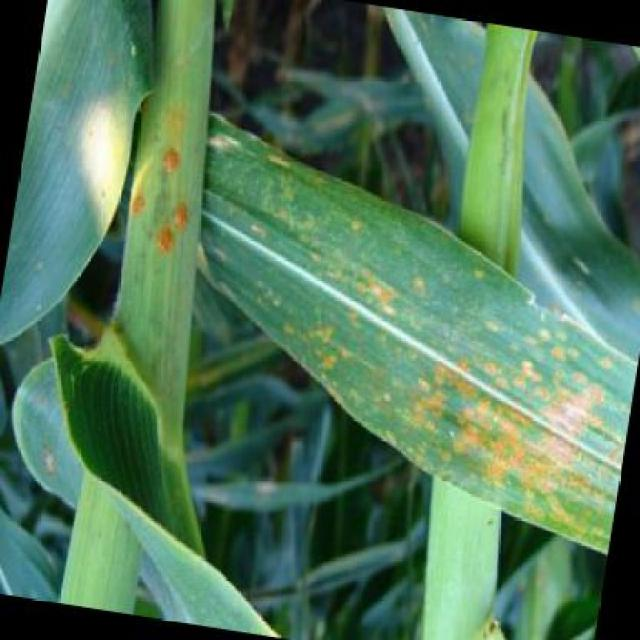Corn_Rust: (242, 168, 608, 555), (125, 115, 202, 274)
